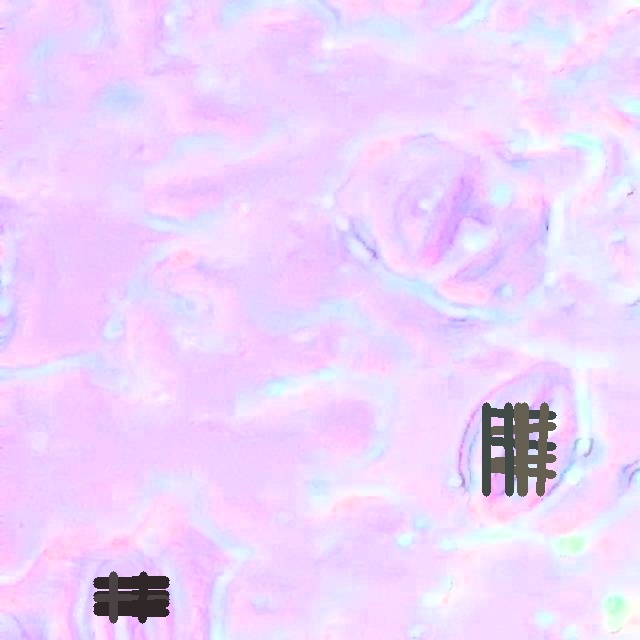open: (482, 403, 555, 495), (93, 571, 169, 623)
